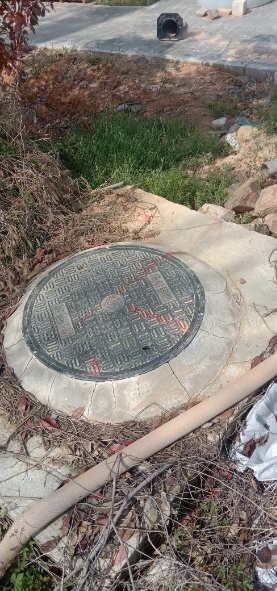good: (22, 243, 205, 379)
